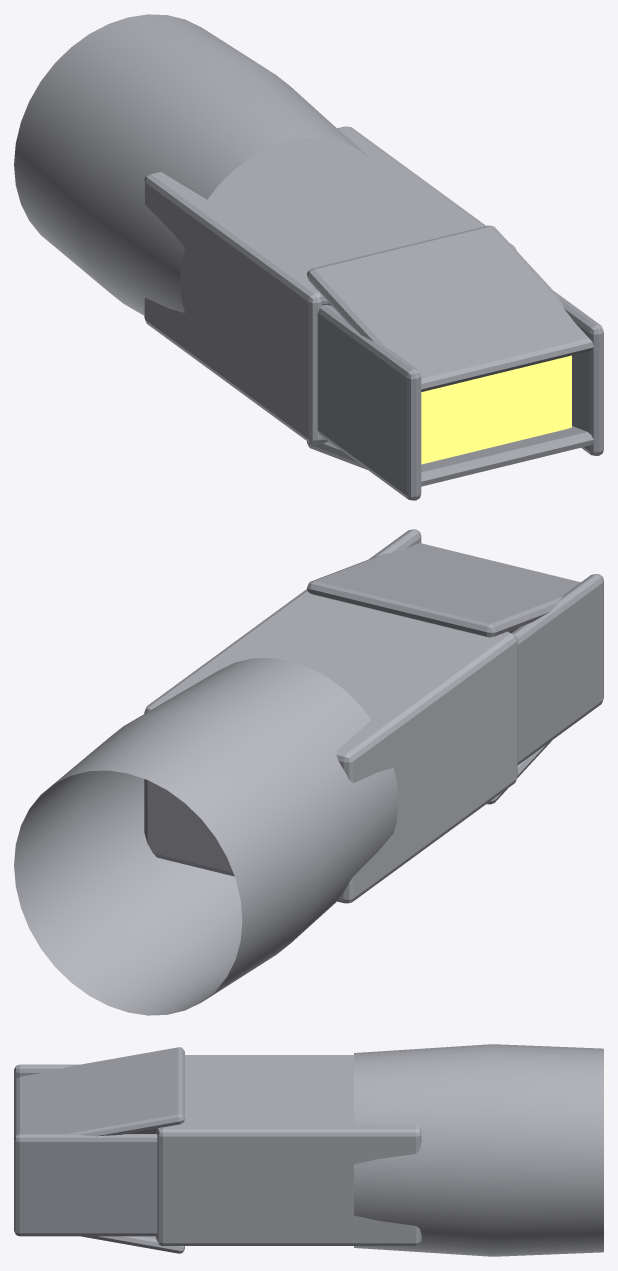
The model's file is f22_engine.glb.
3 renders of one model, top to bottom at view 1: azimuth 30°, elevation 25°; view 2: azimuth 150°, elevation 25°; view 3: azimuth 270°, elevation 25°, orthographic. The views are drawn at different scales.
Visible parts, largest first — view 1: f22_engine; view 2: f22_engine; view 3: f22_engine.
Part boxes in pixels (left/top/right/bottom): f22_engine: left=14, top=14, right=603, bottom=500; f22_engine: left=14, top=529, right=603, bottom=1015; f22_engine: left=14, top=1044, right=603, bottom=1256.
Size of the model in its own units: 0.744 by 0.744 by 2.06.
